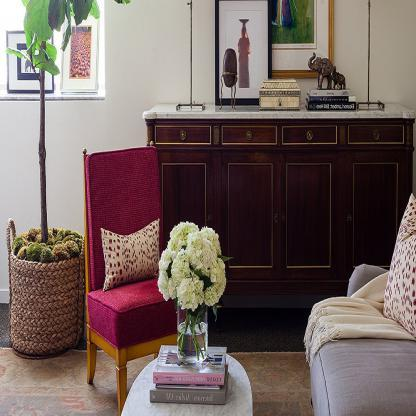chair: (79, 122, 193, 416)
sofa: (305, 187, 416, 416)
table: (145, 100, 416, 315), (119, 344, 249, 416)
